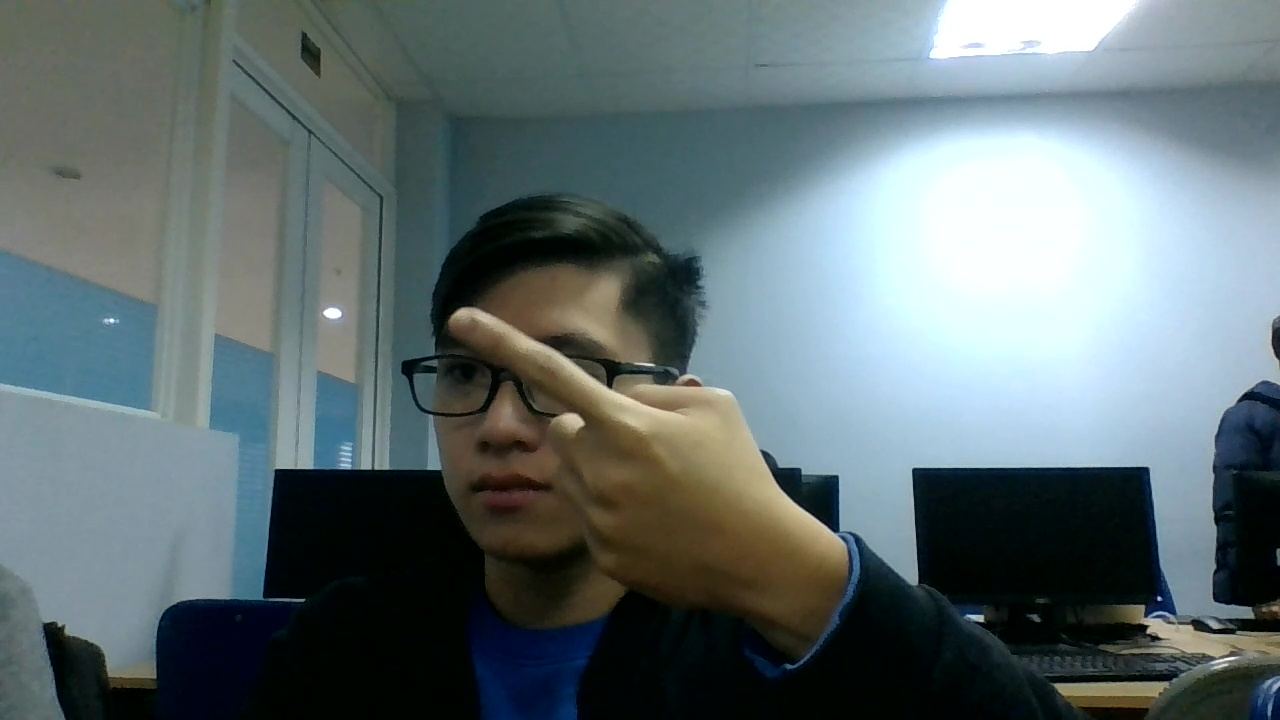right: (450, 301, 765, 625)
